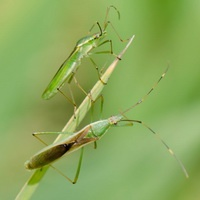insect: (15, 71, 188, 199), (42, 5, 119, 98), (50, 147, 81, 181)
